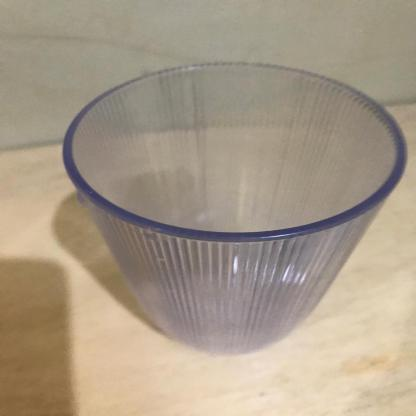glass: (71, 66, 412, 372)
